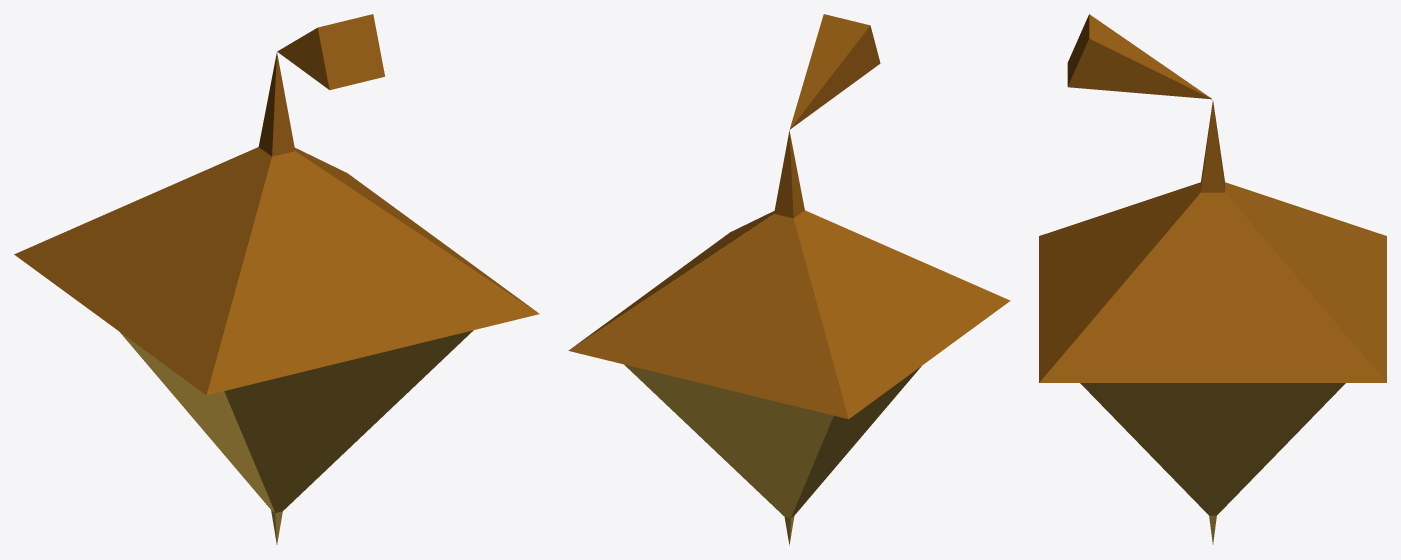
Rendered from 3D Retro Eggcorn.FBX.
3 renders of one model, left to right at view 1: azimuth 30°, elevation 25°; view 2: azimuth 150°, elevation 25°; view 3: azimuth 270°, elevation 25°, orthographic. The views are drawn at different scales.
Visible parts, largest first — view 1: Pyramid001, Pyramid005, Pyramid004, Pyramid003; view 2: Pyramid001, Pyramid005, Pyramid004, Pyramid003; view 3: Pyramid001, Pyramid005, Pyramid004, Pyramid003.
Part boxes in pixels (<box>): Pyramid001: <box>14,147,539,395</box>; Pyramid005: <box>120,330,473,512</box>; Pyramid004: <box>277,14,384,90</box>; Pyramid003: <box>258,52,295,156</box>; Pyramid001: <box>568,210,1010,419</box>; Pyramid005: <box>624,364,921,518</box>; Pyramid004: <box>789,14,880,129</box>; Pyramid003: <box>774,130,804,218</box>; Pyramid001: <box>1039,182,1386,382</box>; Pyramid005: <box>1080,383,1345,515</box>; Pyramid004: <box>1067,14,1212,99</box>; Pyramid003: <box>1201,101,1224,192</box>.
Size of the model in its own units: 120 by 198 by 120.
